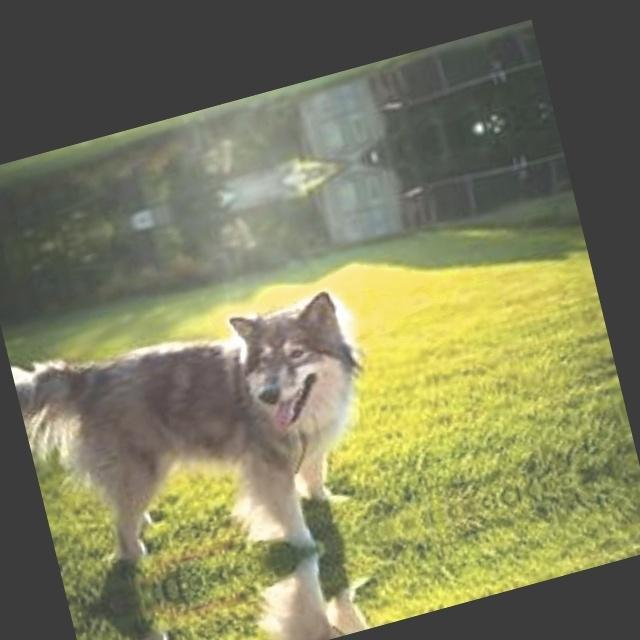dog: (11, 248, 408, 606), (80, 532, 432, 640), (0, 82, 305, 182)
